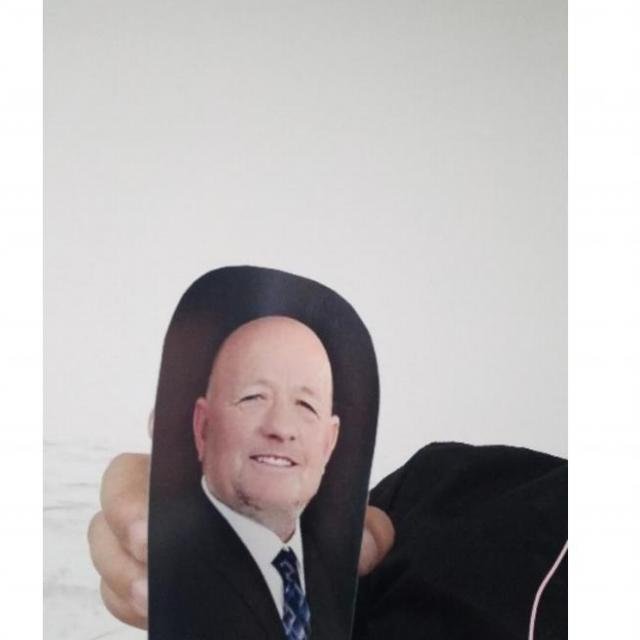photo: (144, 259, 381, 640)
